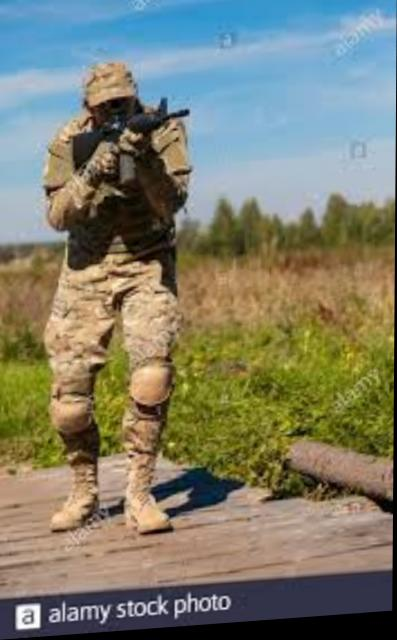other: (50, 64, 184, 530)
